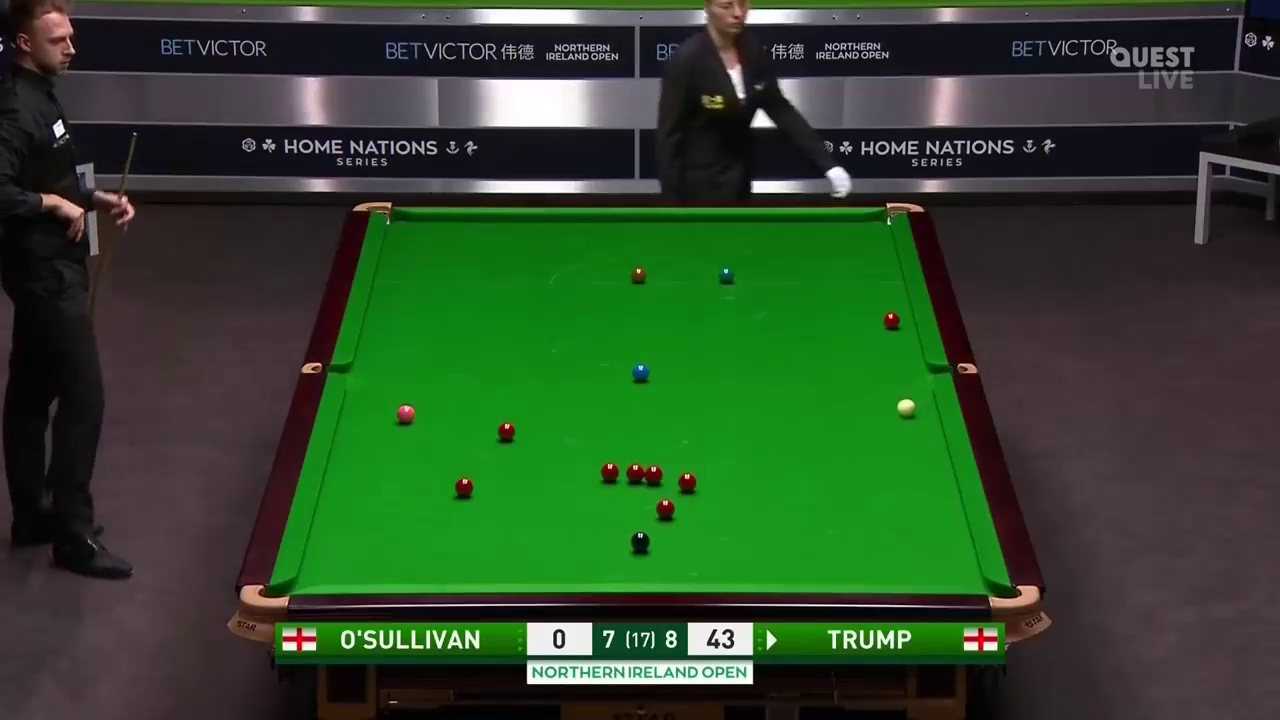ball: (600, 458, 624, 482), (895, 398, 917, 418), (397, 402, 417, 423), (655, 498, 675, 519), (629, 262, 648, 283), (678, 471, 696, 493), (881, 309, 900, 329), (630, 530, 650, 549), (455, 476, 472, 496), (632, 362, 649, 381), (498, 422, 515, 440), (718, 266, 735, 284)
